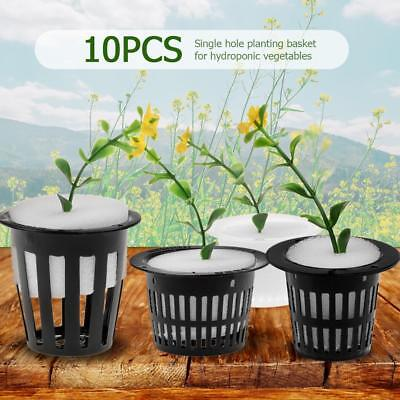basket: (2, 213, 138, 358), (267, 234, 394, 359), (133, 244, 263, 356)
